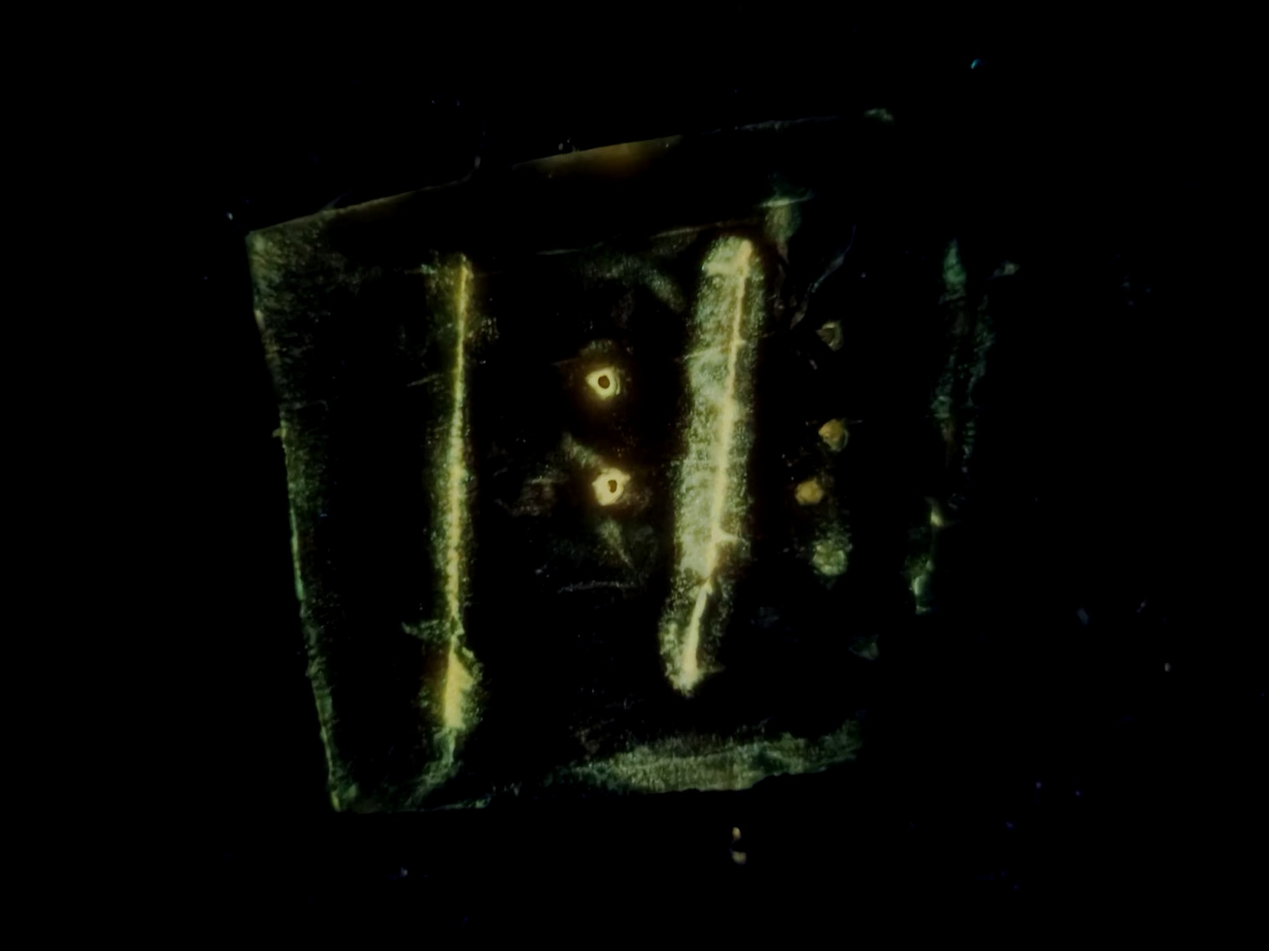Crater: (564, 446, 656, 521), (563, 350, 650, 415), (797, 397, 869, 466), (778, 457, 837, 521)
Fissure: (332, 244, 569, 793), (584, 219, 846, 714)
